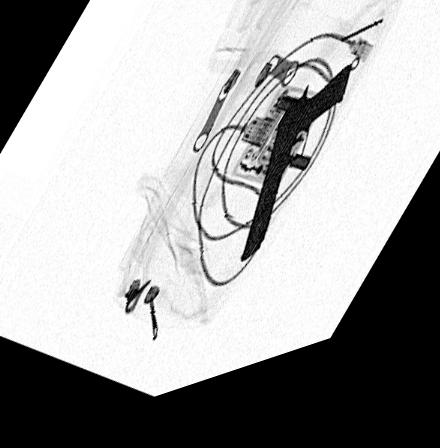Gun: (236, 81, 351, 279)
